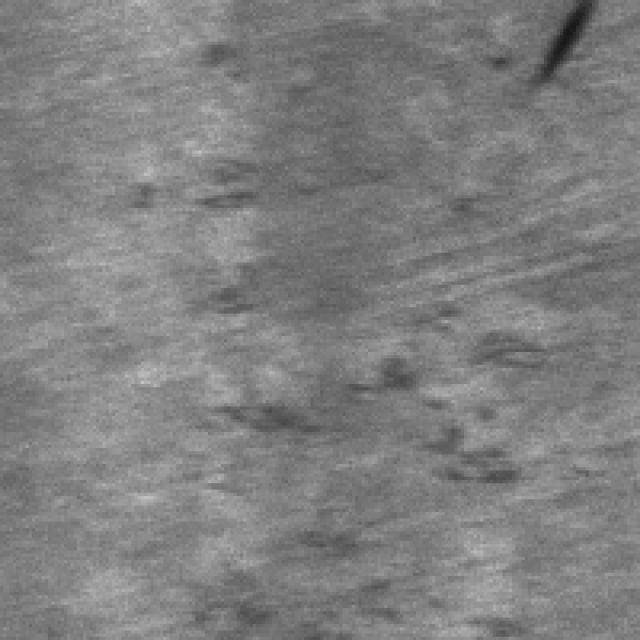rolled-in_scale: (138, 272, 547, 506), (115, 32, 307, 307)
